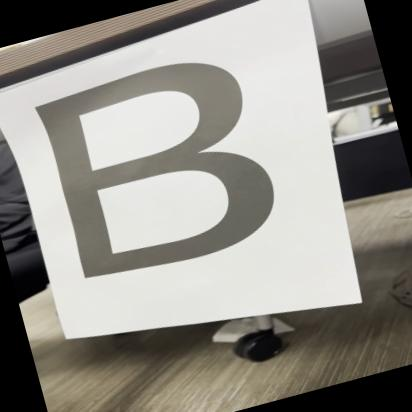seat: (13, 33, 316, 312)
